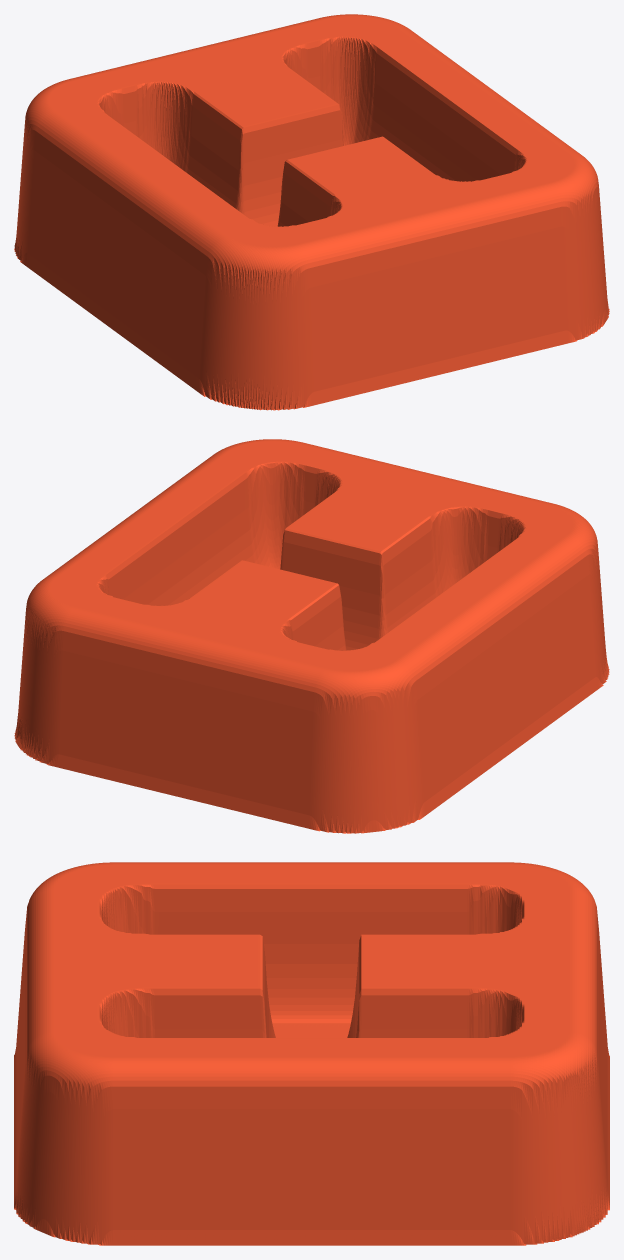
File: mold.glb
3 views of the same model, one above another, from view 1: azimuth 30°, elevation 25°; view 2: azimuth 150°, elevation 25°; view 3: azimuth 270°, elevation 25° (orthographic). The views are drawn at different scales.
Parts seen in each view (by area): view 1: geometry_0; view 2: geometry_0; view 3: geometry_0.
Part boxes in pixels (left/top/right/bottom): geometry_0: left=14, top=14, right=609, bottom=410; geometry_0: left=14, top=439, right=609, bottom=833; geometry_0: left=14, top=862, right=609, bottom=1245.
Size of the model in its own units: 0.0486 by 0.0172 by 0.0542.
